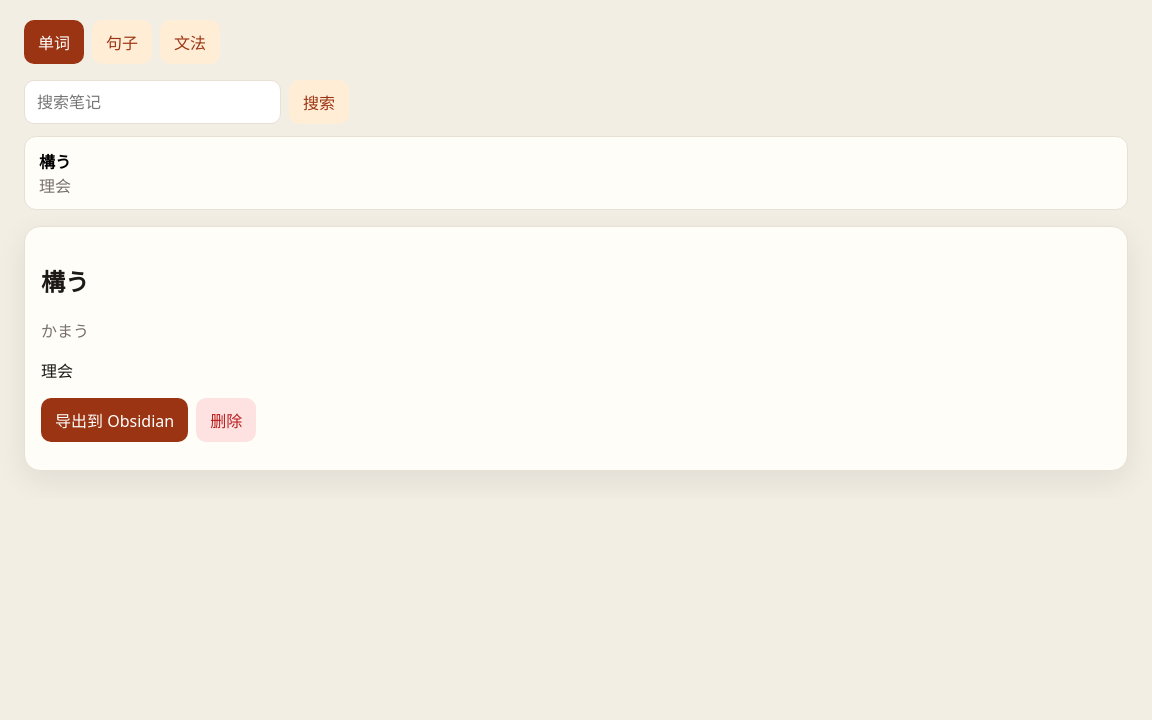
Test case: notes delete messaging › warns that the current Vault markdown will be removed and shows the result
Expected: the heading "構う" is shown, [41, 265, 89, 298]
Step 1. Click the button "删除" → {"x": 226, "y": 420}, box [196, 398, 256, 442]
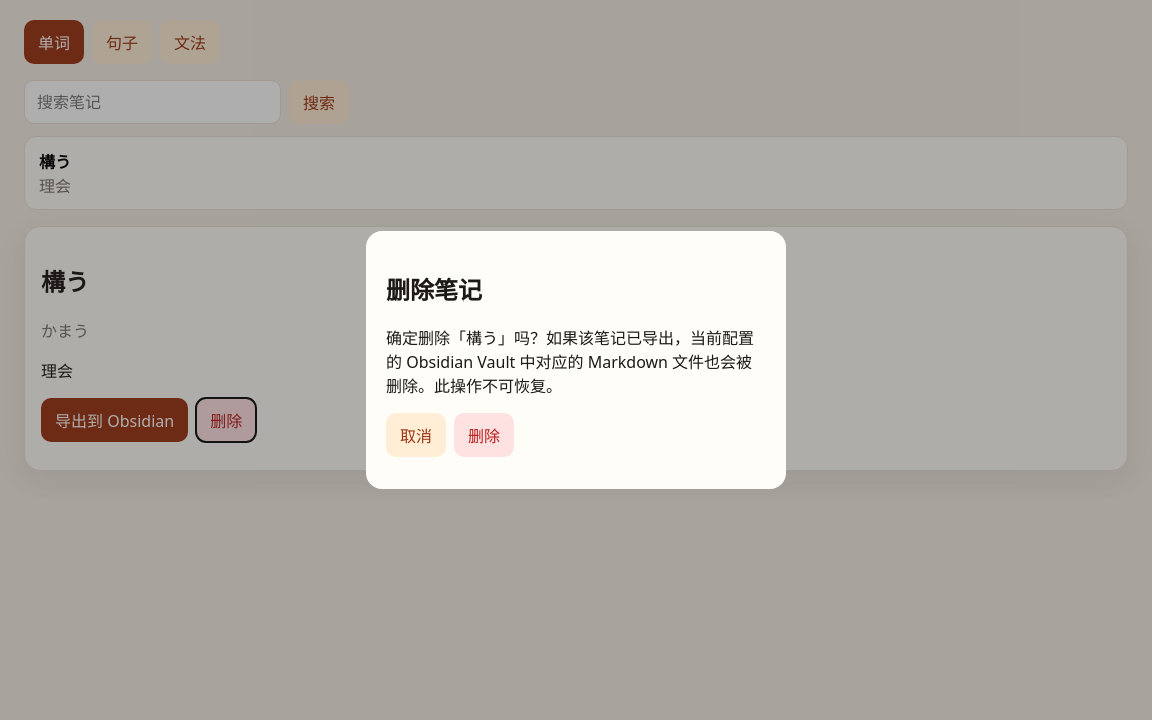
Expected: the text "当前配置的 Obsidian Vault" is shown, [386, 327, 754, 397]
Step 2. Click the button "删除" → {"x": 484, "y": 435}, box [454, 413, 514, 457]
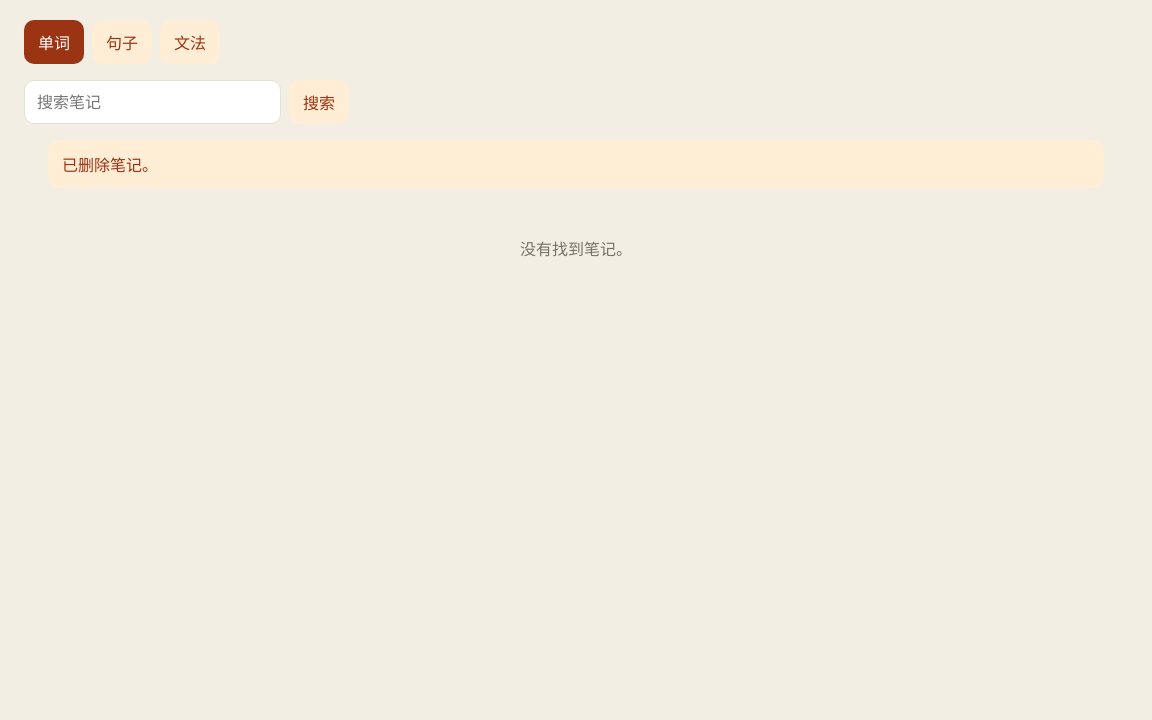
Expected: the text "已删除笔记。" is shown, [48, 140, 1104, 188]
